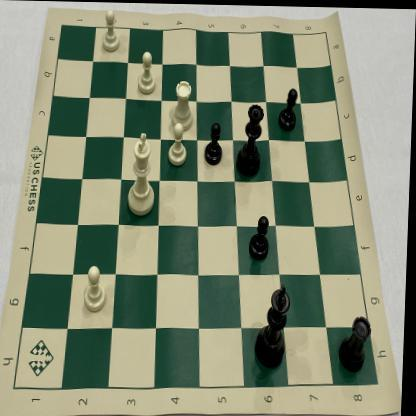black-king: (255, 279, 294, 373)
black-pawn: (249, 212, 274, 262), (205, 119, 227, 166), (279, 84, 300, 131)
black-queen: (236, 97, 267, 178)
black-rook: (339, 313, 376, 375)
white-king: (125, 130, 161, 220)
white-pawn: (83, 265, 111, 316), (165, 119, 190, 168), (135, 47, 160, 96), (99, 7, 123, 54)
white-rook: (170, 77, 197, 134)
